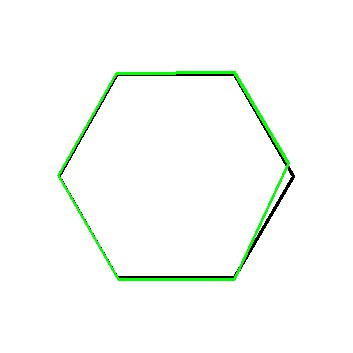line_segment: (58, 72, 295, 280)
